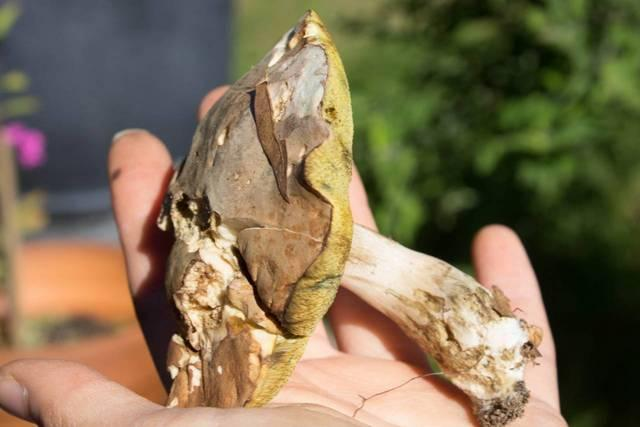edible_mushroom: (155, 7, 545, 409)
